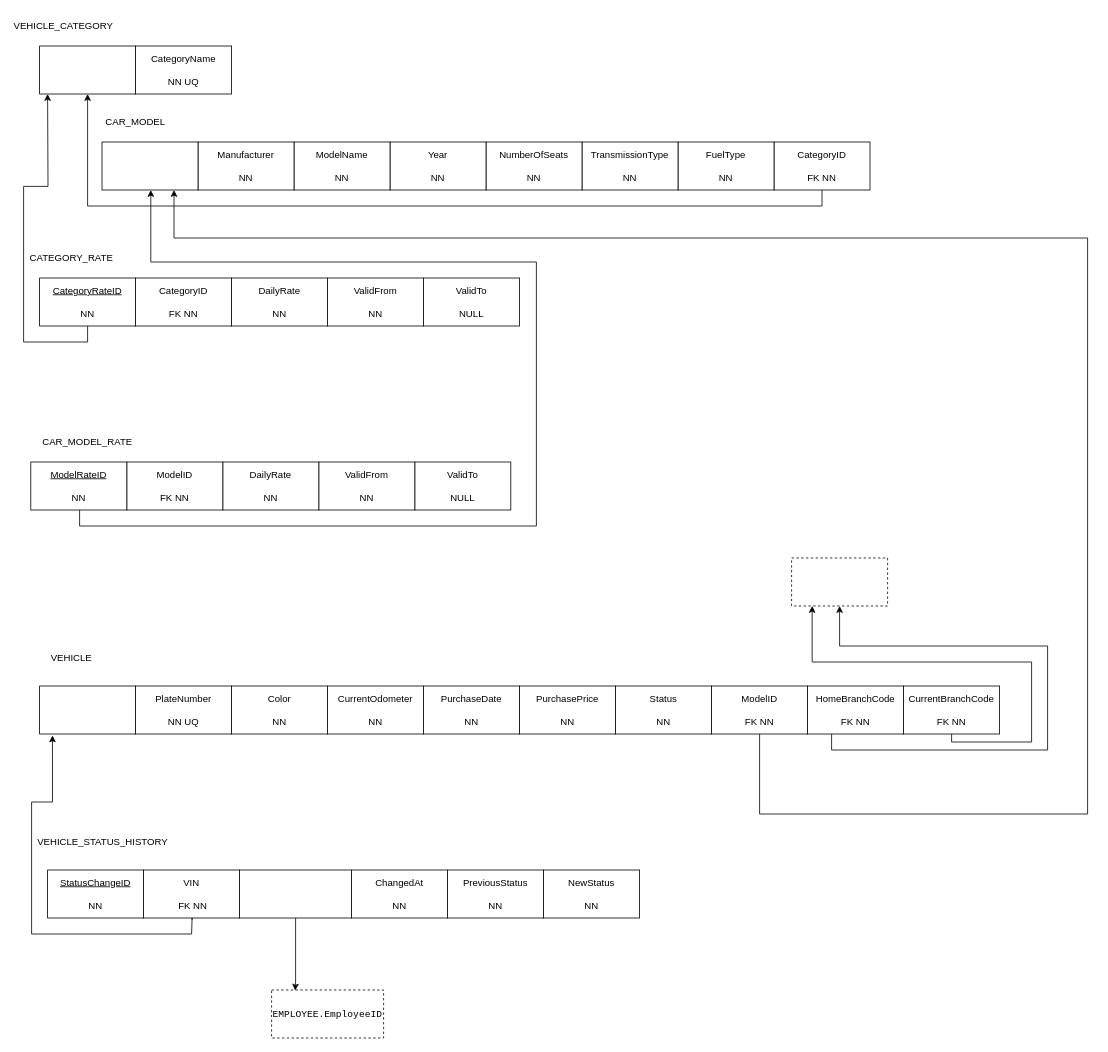
The diagram is 1108 pixels wide and 1052 high, and some of its shapes have lost their labels. The centre of each missing label's shape, as x and y in pixels:
"BRANCH.BranchCode" belongs at point (839, 581).
"CategoryID NN" belongs at point (87, 69).
"ChangedByEmployeeID FK NN" belongs at point (295, 893).
"ModelID NN" belongs at point (149, 165).
"VIN NN" belongs at point (87, 709).
